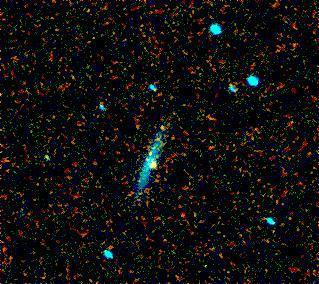star: (137, 149, 167, 179)
